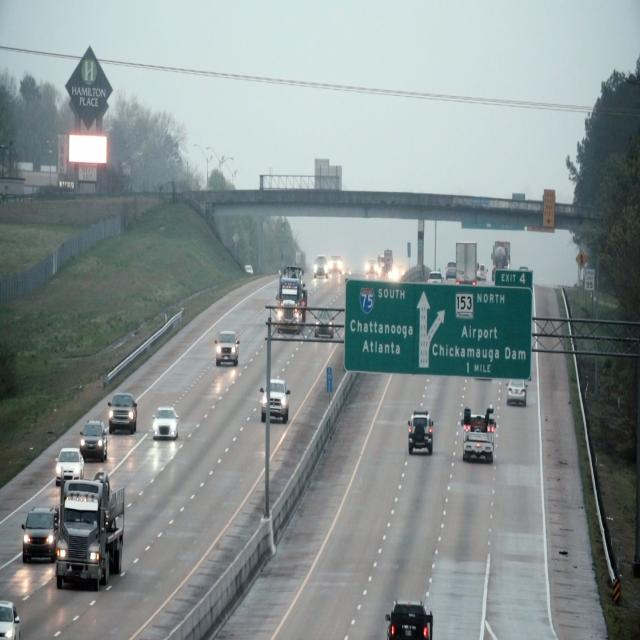Car: (55, 477, 128, 589), (461, 406, 500, 470), (20, 503, 57, 567), (278, 268, 310, 332), (258, 379, 294, 422), (106, 392, 140, 436), (406, 409, 437, 453), (80, 415, 108, 462), (211, 327, 243, 367), (53, 446, 83, 486), (152, 405, 182, 444), (506, 379, 530, 406)
